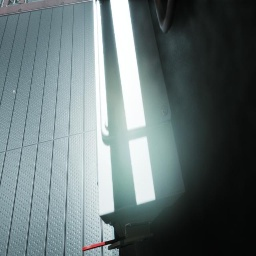SafetySwitchPanel ,: (82, 0, 185, 251)
